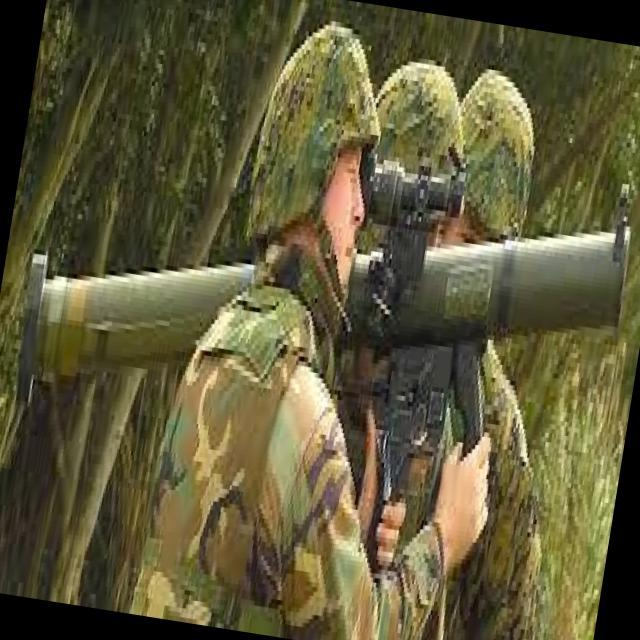rocket: (3, 109, 640, 503)
